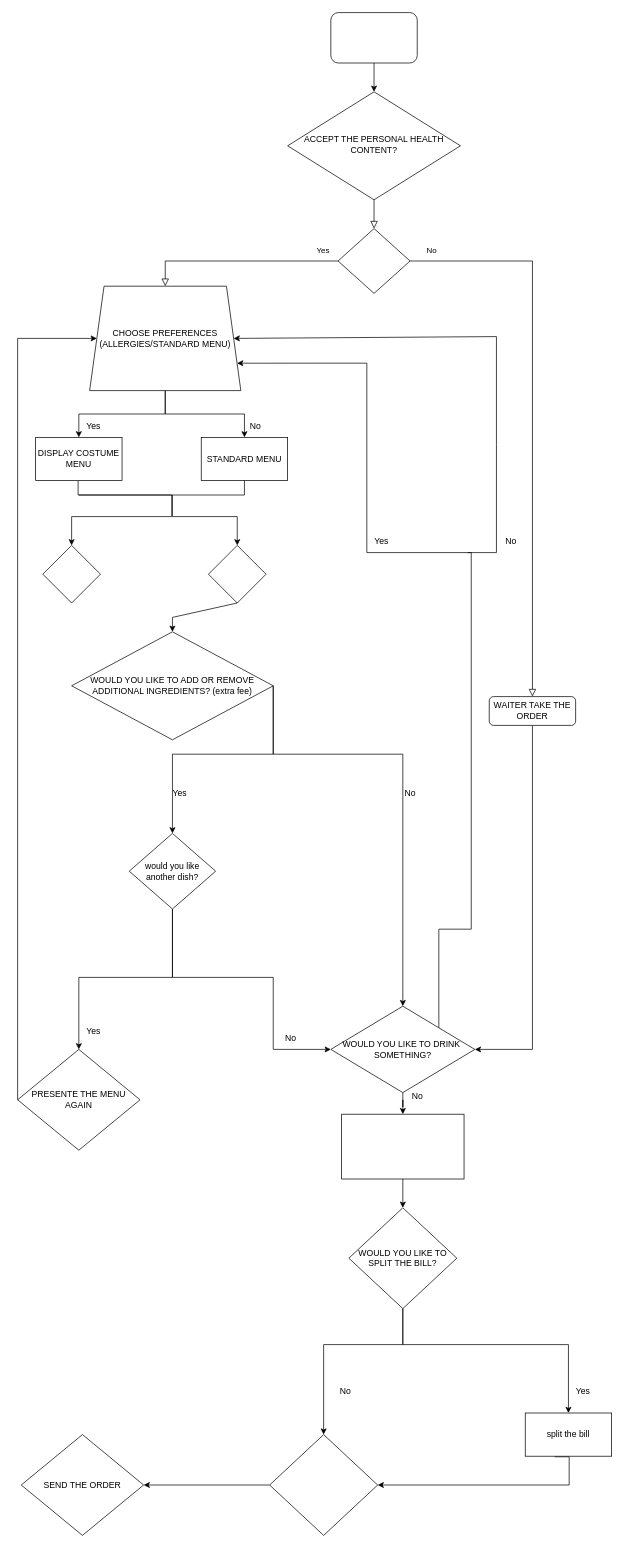
This 624x1548 diagram has some shape labels left out. The shapes that lost their labels are listed below. From the top down, each one's centre as x and y in pixels, then its label:
At (373,37): "START".
At (373,260): "ARE YOU GONNA USE THE WEB?".
At (71,574): "DISH 1".
At (237,574): "DISH 2".
At (402,1146): "CUSTOMEAL SHOW WHAT WE ORDER".
At (323,1484): "OPTIONS TO PAY THE BILL".
